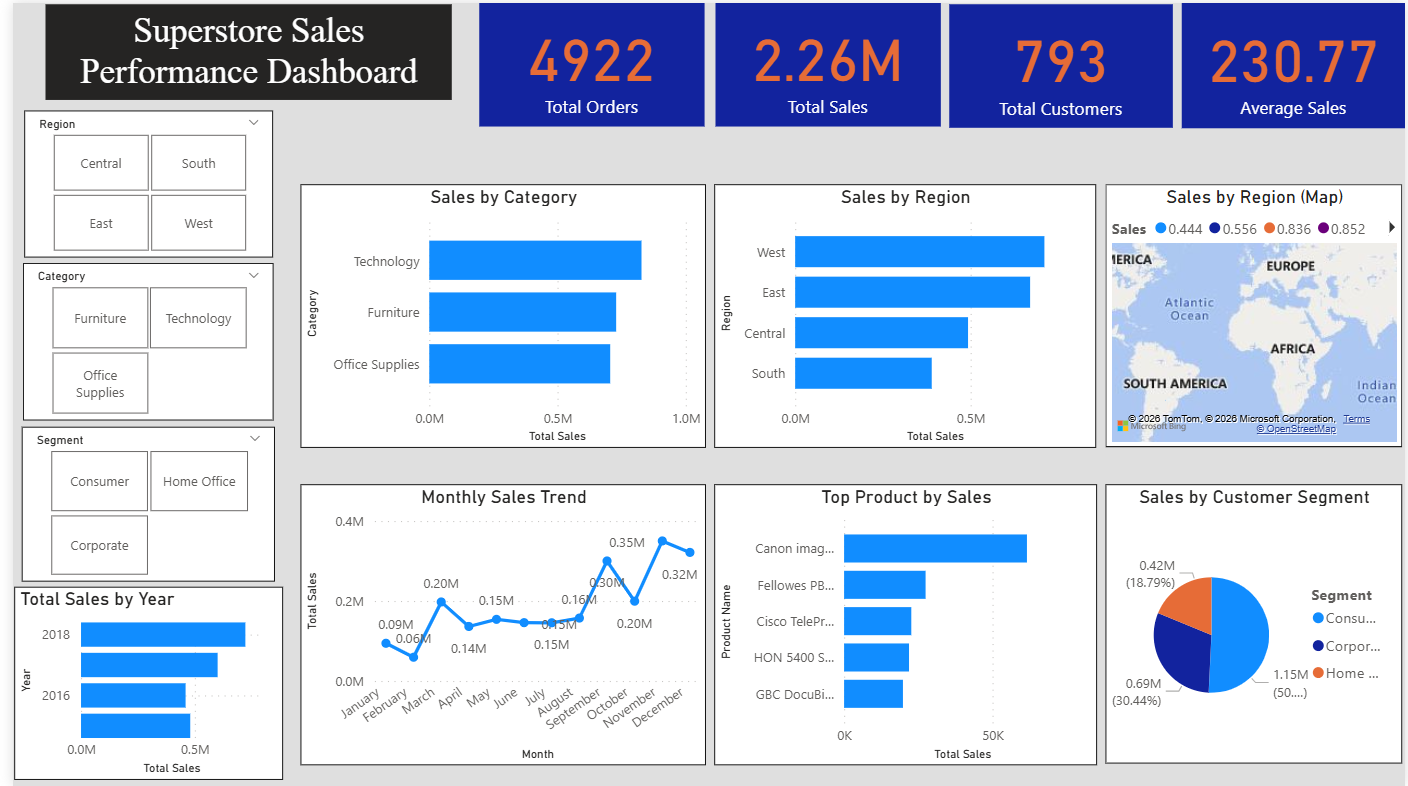

The dashboard page shown, as its layout file describes it:
{"tool":"powerbi","page":{"name":"Page 1","canvas":[1280,720],"ordinal":0},"visuals":[{"type":"card","fields":{"Values":["train.Total Orders"]},"box":[429.1,0,207,113.8],"z":0},{"type":"card","fields":{"Values":["train.Total Sales"]},"box":[645.8,0,207,113.8],"z":1000},{"type":"card","fields":{"Values":["train.Total Customers"]},"box":[861,1.4,205.7,113.8],"z":2000},{"type":"card","fields":{"Values":["train.Average Sales"]},"box":[1074.3,0,205.7,115.2],"z":3000},{"type":"textbox","box":[30.2,1.2,373.9,88],"z":4000},{"type":"barChart","title":"Sales by Category","fields":{"Category":["train.Category"],"Y":["train.Total Sales"]},"box":[264.1,166.4,372.7,242.4],"z":5000},{"type":"barChart","title":"Sales by Region","fields":{"Y":["train.Total Sales"],"Category":["train.Region"]},"box":[645.2,166.4,351,242.4],"z":6000},{"type":"lineChart","title":"Monthly Sales Trend","fields":{"Category":["train.Order Date.Variation.Date Hierarchy.Month"],"Y":["train.Total Sales"]},"box":[264.1,442.6,372.7,258.1],"z":7000},{"type":"barChart","fields":{"Y":["train.Total Sales"],"Category":["train.Order Date.Variation.Date Hierarchy.Year","train.Order Date.Variation.Date Hierarchy.Quarter","train.Order Date.Variation.Date Hierarchy.Month","train.Order Date.Variation.Date Hierarchy.Day"]},"box":[1.2,536.7,247.2,177.3],"z":8000},{"type":"barChart","title":"Top Product by Sales","fields":{"Y":["train.Total Sales"],"Category":["train.Product Name"]},"box":[645.2,442.6,352.2,258.1],"z":9000},{"type":"slicer","fields":{"Values":["train.Category"]},"box":[9.6,238.8,230.4,144.7],"z":10000},{"type":"slicer","fields":{"Values":["train.Region"]},"box":[10.9,98.9,229.1,135.1],"z":11000},{"type":"slicer","fields":{"Values":["train.Segment"]},"box":[8.4,389.5,232.8,142.3],"z":12000},{"type":"filledMap","title":"Sales by Region (Map)","fields":{"Series":["train.Sales"],"Category":["train.Region"]},"box":[1004.6,166.4,272.6,241.2],"z":13000},{"type":"pieChart","title":"Sales by Customer Segment","fields":{"Category":["train.Segment"],"Y":["train.Total Sales"]},"box":[1004.6,442.6,272.6,256.9],"z":14000}]}

Visuals, with their boxes in screenshot pixels (x1, y1, x2, y2), scaled from the page's 1280x720 canvas onto the 1408x786 screenshot:
card - train.Total Orders: (472,0,700,124)
card - train.Total Sales: (710,0,938,124)
card - train.Total Customers: (947,2,1173,126)
card - train.Average Sales: (1182,0,1407,126)
textbox: (33,1,445,97)
"Sales by Category" barChart: (291,182,700,446)
"Sales by Region" barChart: (710,182,1096,446)
"Monthly Sales Trend" lineChart: (291,483,700,765)
barChart - train.Total Sales x train.Order Date.Variation.Date Hierarchy.Year: (1,586,273,779)
"Top Product by Sales" barChart: (710,483,1097,765)
slicer - train.Category: (11,261,264,419)
slicer - train.Region: (12,108,264,255)
slicer - train.Segment: (9,425,265,581)
"Sales by Region (Map)" filledMap: (1105,182,1405,445)
"Sales by Customer Segment" pieChart: (1105,483,1405,764)
